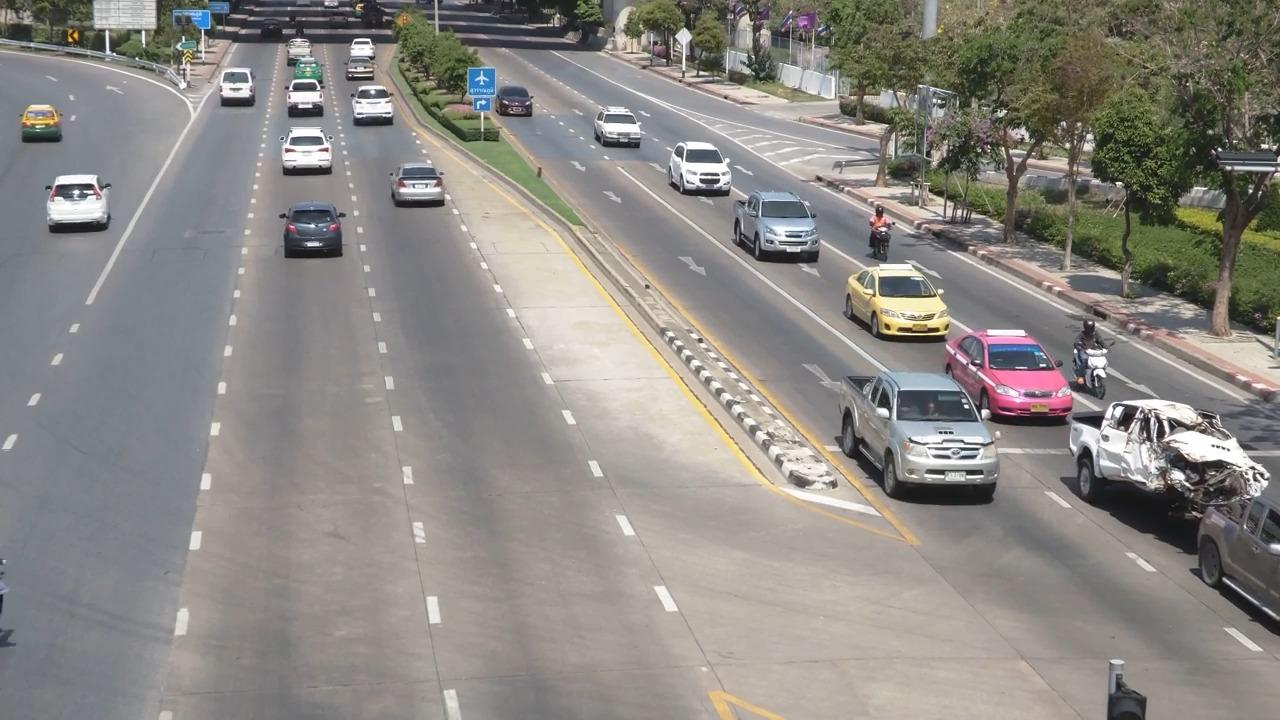CAR: (830, 359, 1009, 506), (944, 311, 1084, 423), (1190, 458, 1280, 625), (846, 251, 961, 346), (731, 187, 824, 273), (270, 191, 357, 272), (39, 164, 120, 242), (378, 151, 459, 220), (275, 121, 347, 188), (664, 141, 737, 201), (342, 80, 408, 133), (12, 95, 68, 154), (213, 63, 264, 114), (594, 104, 646, 149), (285, 77, 335, 121), (495, 79, 538, 125), (346, 62, 385, 97), (291, 60, 326, 88), (285, 41, 315, 70), (345, 42, 378, 67)
MOTOR: (1061, 312, 1124, 404), (863, 198, 897, 263)
